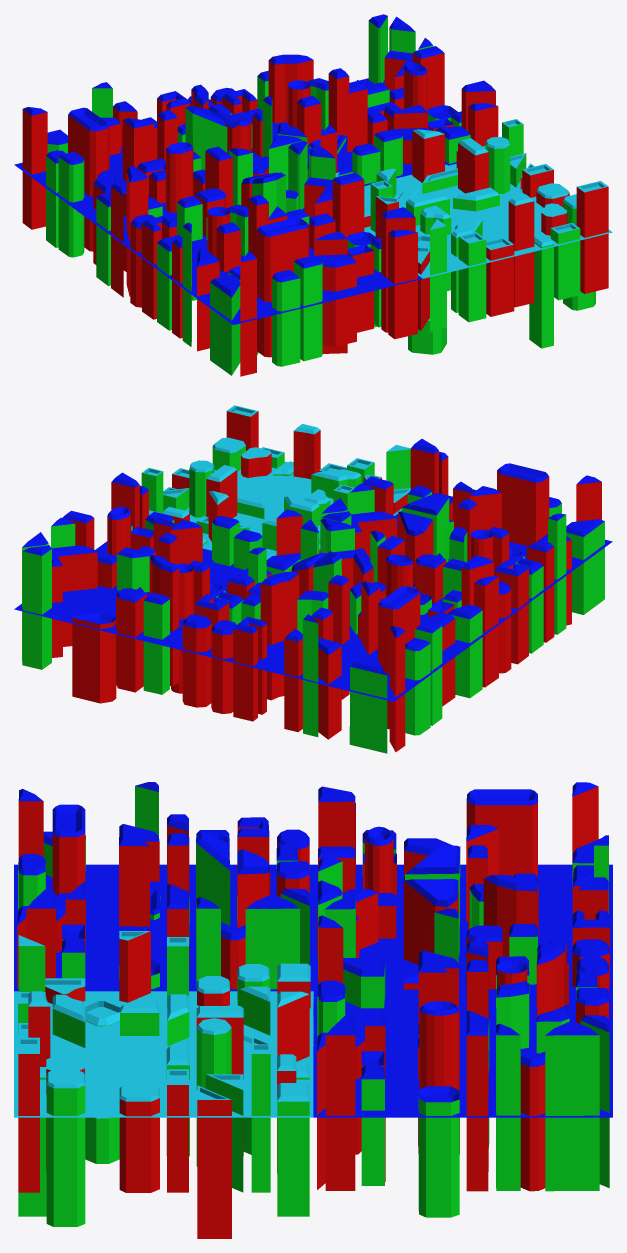
The model's file is mesh_placa_negocity_02.FBX.
3 renders of one model, top to bottom at view 1: azimuth 30°, elevation 25°; view 2: azimuth 150°, elevation 25°; view 3: azimuth 270°, elevation 25°, orthographic. The views are drawn at different scales.
Visible parts, largest first — view 1: placa_negocity_02; view 2: placa_negocity_02; view 3: placa_negocity_02.
Part boxes in pixels (box(x1,y1,x2,y2)): placa_negocity_02: box(14, 14, 612, 376); placa_negocity_02: box(14, 405, 612, 753); placa_negocity_02: box(14, 782, 612, 1238).
Size of the model in its own units: 20 by 8.68 by 20.
